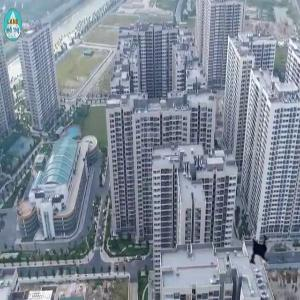drone: (237, 226, 289, 278)
